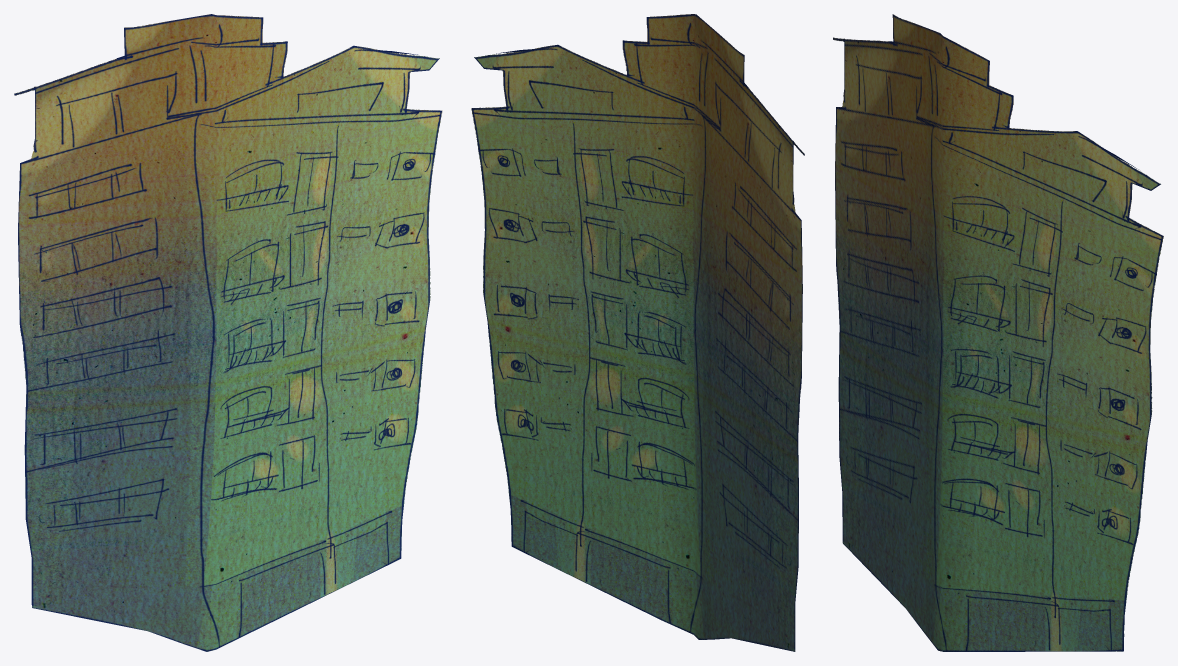
Rendered from 02_mid_bld_03.fbx.
3 renders of one model, left to right at view 1: azimuth 30°, elevation 25°; view 2: azimuth 150°, elevation 25°; view 3: azimuth 330°, elevation 25°, orthographic. The views are drawn at different scales.
Visible parts, largest first — view 1: 02_中_房子_03; view 2: 02_中_房子_03; view 3: 02_中_房子_03.
Boxes of the visible parts, x1,y1,x2,y2 form: 02_中_房子_03: (14, 14, 442, 651); 02_中_房子_03: (471, 14, 804, 651); 02_中_房子_03: (833, 14, 1163, 651).
Size of the model in its own units: 61.74 by 97.82 by 12.29.
1 material, 1 textured.
